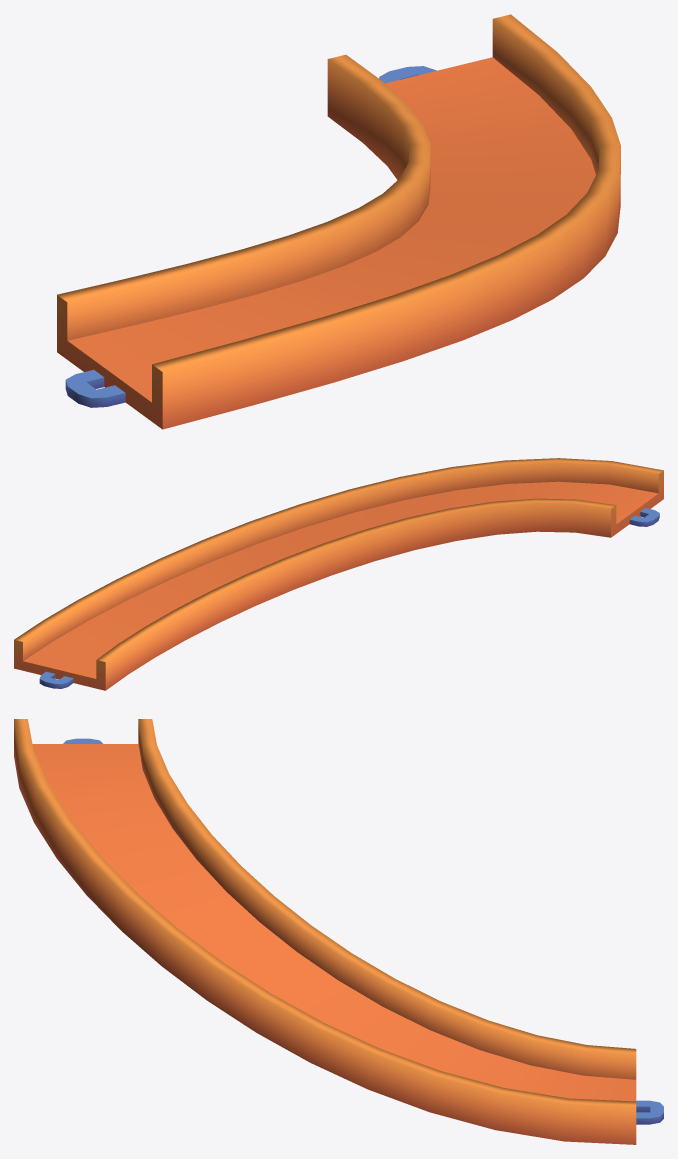
The model's file is track-narrow-corner-large-ramp.glb.
3 views of the same model, one above another, from view 1: azimuth 30°, elevation 25°; view 2: azimuth 150°, elevation 25°; view 3: azimuth 270°, elevation 25° (orthographic). The views are drawn at different scales.
Parts seen in each view (by area): view 1: track-narrow-corner-large-ramp; view 2: track-narrow-corner-large-ramp; view 3: track-narrow-corner-large-ramp.
Part boxes in pixels (x1,y1,x2,y2): track-narrow-corner-large-ramp: [57, 14, 620, 429]; track-narrow-corner-large-ramp: [14, 458, 663, 690]; track-narrow-corner-large-ramp: [14, 719, 663, 1144].
Bounding box in the file's own units: 4.7 × 1.3 × 4.7.
1 material, 1 textured.
